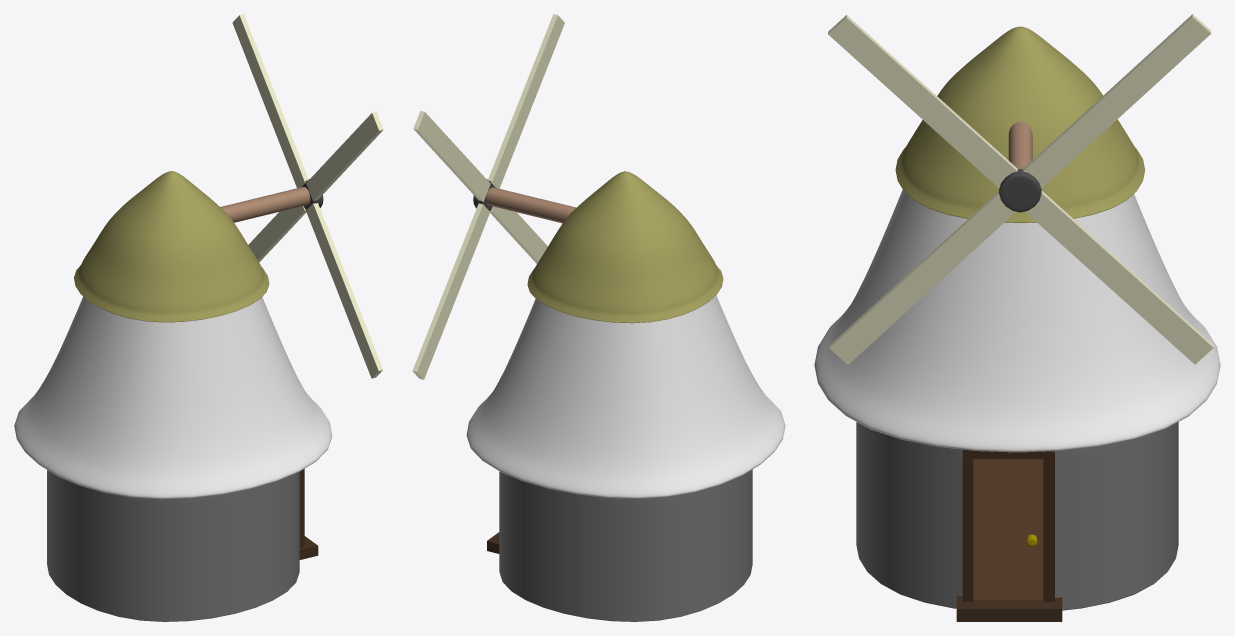
Rendered from Windmill.fbx.
The picture shows the model from 3 angles, left to right: view 1: azimuth 30°, elevation 25°; view 2: azimuth 150°, elevation 25°; view 3: azimuth 270°, elevation 25°; orthographic projection. The views are drawn at different scales.
Parts seen in each view (by area): view 1: Windmill, Blades, Door; view 2: Windmill, Blades; view 3: Windmill, Blades, Door.
Part boxes in pixels (box(x1,y1,x2,y2)): Windmill: box(14, 171, 332, 621); Blades: box(220, 14, 383, 378); Door: box(299, 469, 318, 559); Windmill: box(466, 171, 785, 621); Blades: box(412, 14, 576, 379); Windmill: box(814, 26, 1220, 610); Blades: box(828, 14, 1213, 364); Door: box(956, 449, 1062, 621).
Size of the model in its own units: 519 by 844 by 502.
